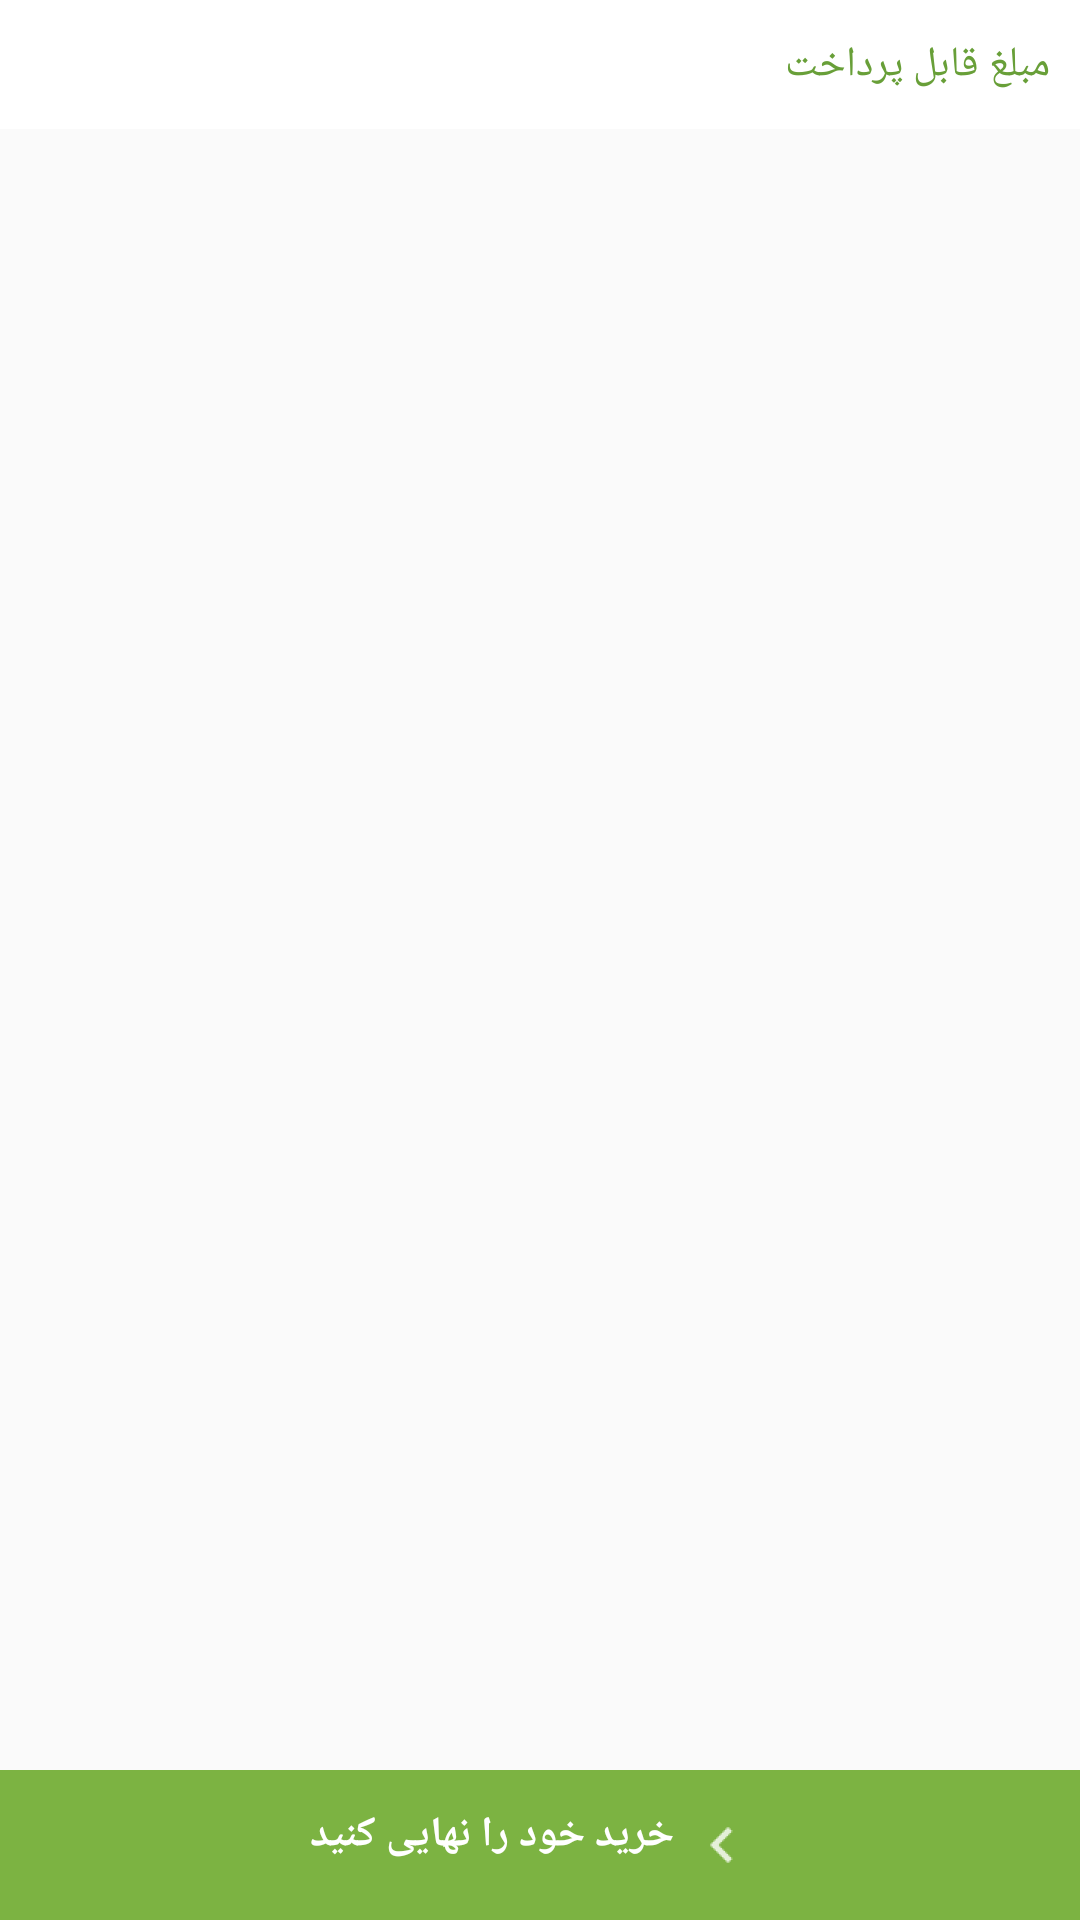

Icon click points for this 1080px x 1920px phone screenshot, format (x,y):
chevron left: (721,1845)
